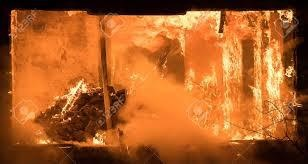fire: (184, 8, 293, 141), (88, 128, 107, 146), (36, 134, 53, 146)
